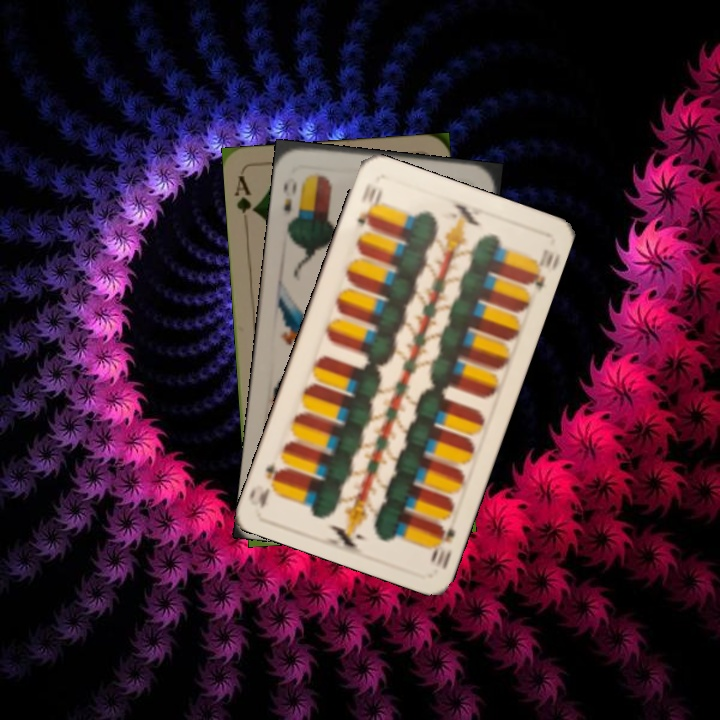E10: (426, 520, 458, 572), (353, 184, 385, 229)
EO: (279, 177, 300, 218)
GA: (231, 171, 260, 217)
